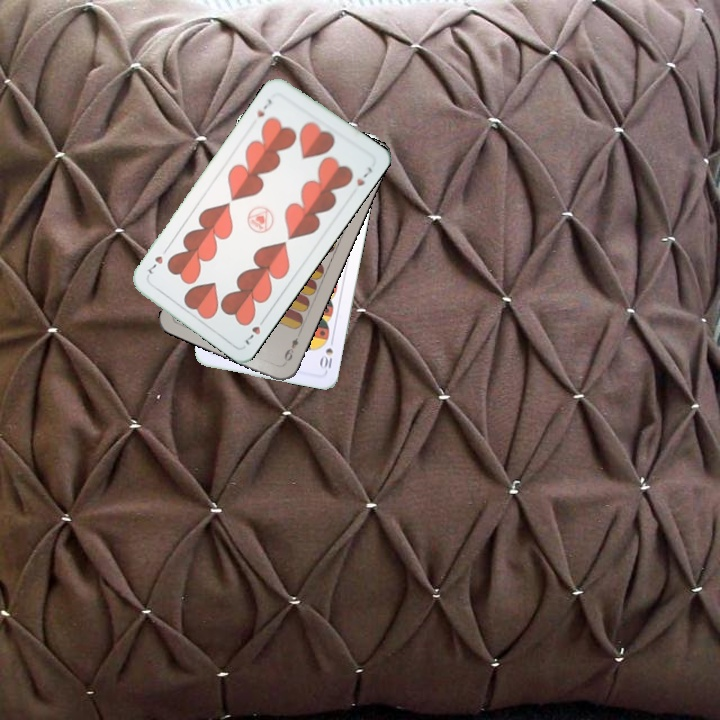E9: (280, 333, 301, 367)
H7: (240, 313, 269, 348), (253, 95, 274, 120)
S10: (317, 333, 336, 374)
